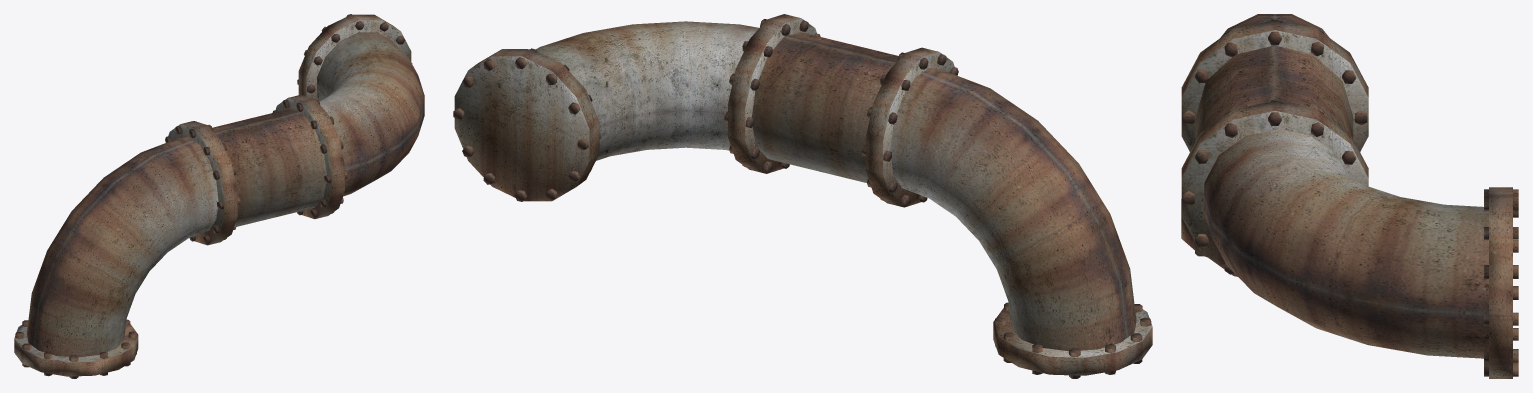
The model's file is pipe_4.obj.
The picture shows the model from 3 angles, left to right: view 1: azimuth 30°, elevation 25°; view 2: azimuth 150°, elevation 25°; view 3: azimuth 270°, elevation 25°; orthographic projection. The views are drawn at different scales.
Visible parts, largest first — view 1: pipe_4.obj; view 2: pipe_4.obj; view 3: pipe_4.obj.
Part boxes in pixels (left/top/right/bottom): pipe_4.obj: left=14, top=14, right=424, bottom=378; pipe_4.obj: left=453, top=14, right=1152, bottom=378; pipe_4.obj: left=1181, top=14, right=1518, bottom=378.
Size of the model in its own units: 5.31 by 2.17 by 2.19.
Materials: 1 (1 with a texture image).
